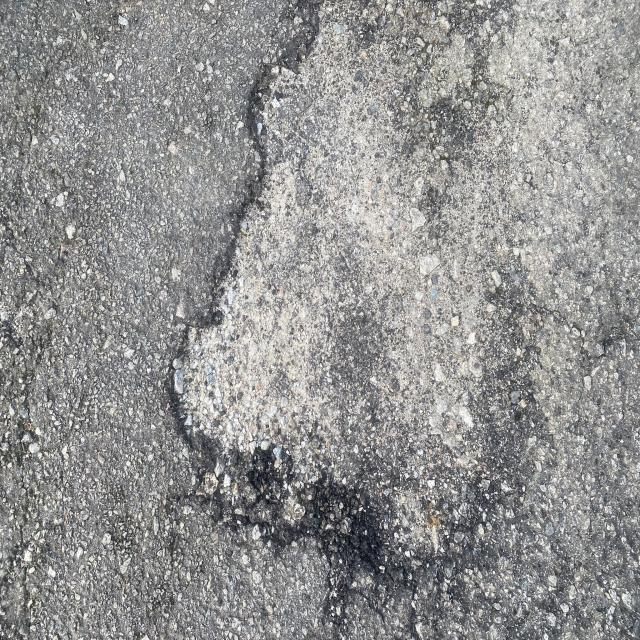pothole: (170, 35, 449, 587)
